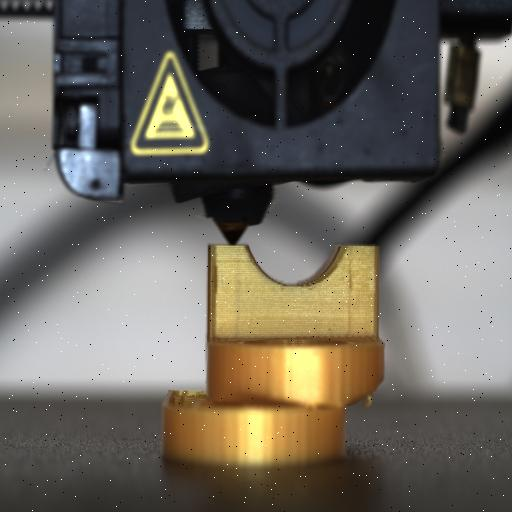layer_shift: (156, 380, 386, 418)
